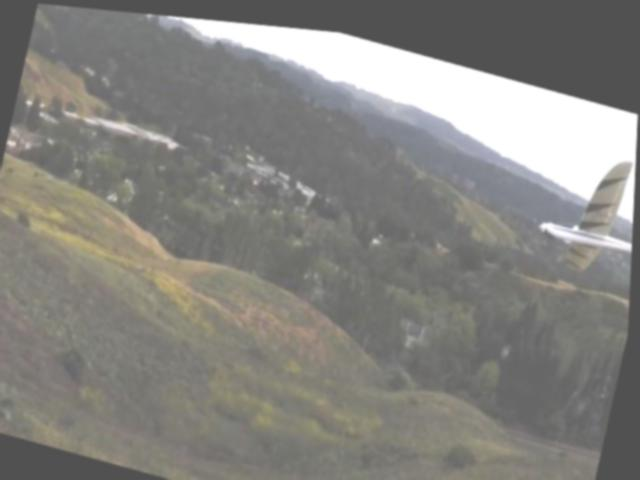iha: (530, 125, 637, 280)
